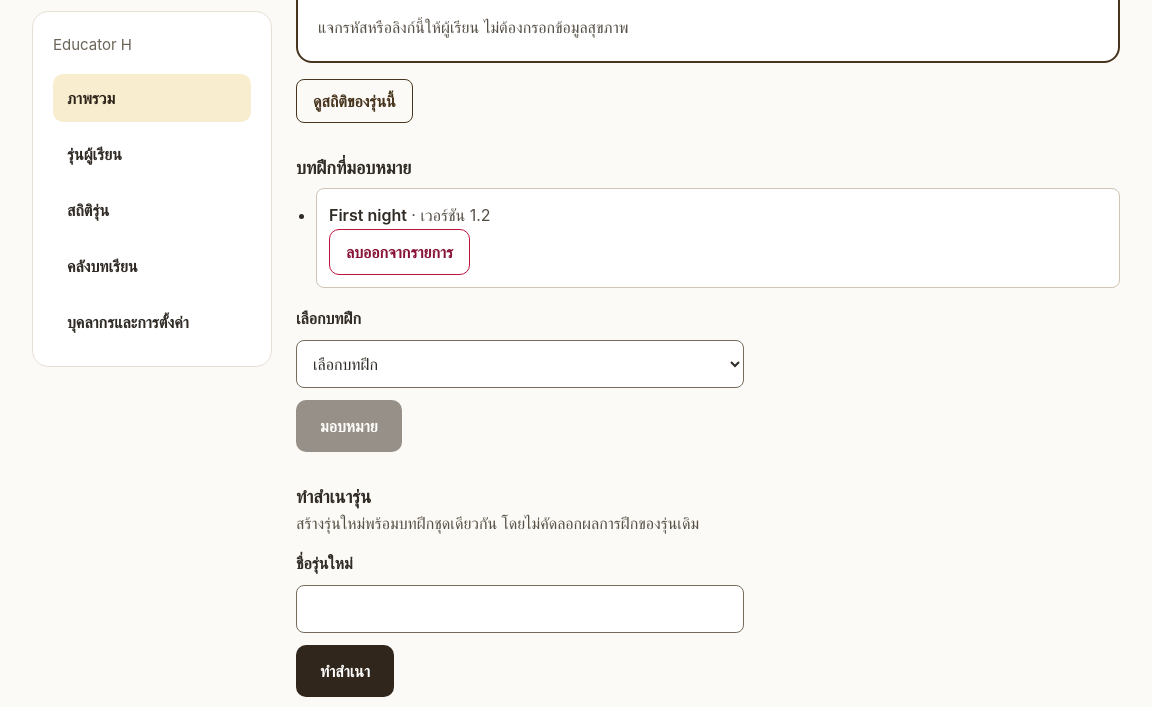
it: S2 cohorts and assignments › shows an error when assigning fails
(page scrolled)
Check: the navigation bar named "เมนูสถาบัน" is shown, box x1=53 y1=74 x2=251 y2=346
Select "First night" in the dropdown labelled "เลือกบทฝึก" at (520, 364), box x1=296 y1=340 x2=744 y2=388
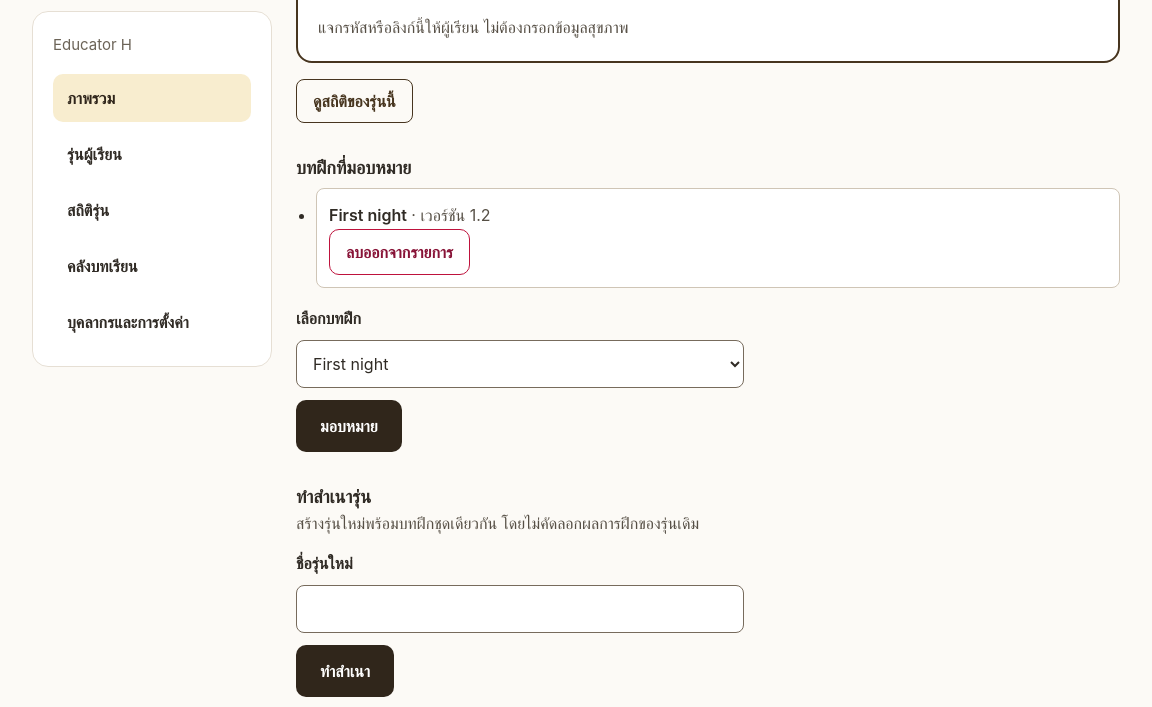
Click the button "มอบหมาย" at (349, 426), box x1=296 y1=400 x2=402 y2=452
(page scrolled)
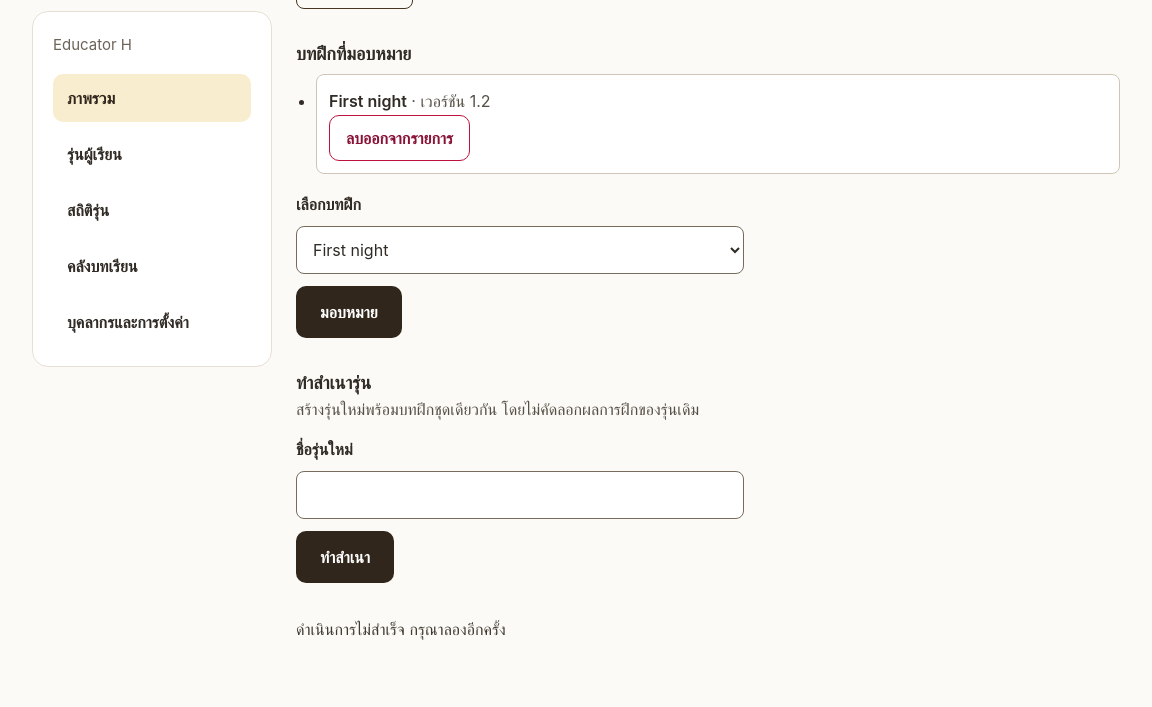
Check: the text "ดำเนินการไม่สำเร็จ กรุณาลองอีกครั้ง" is shown, box x1=296 y1=619 x2=506 y2=639
